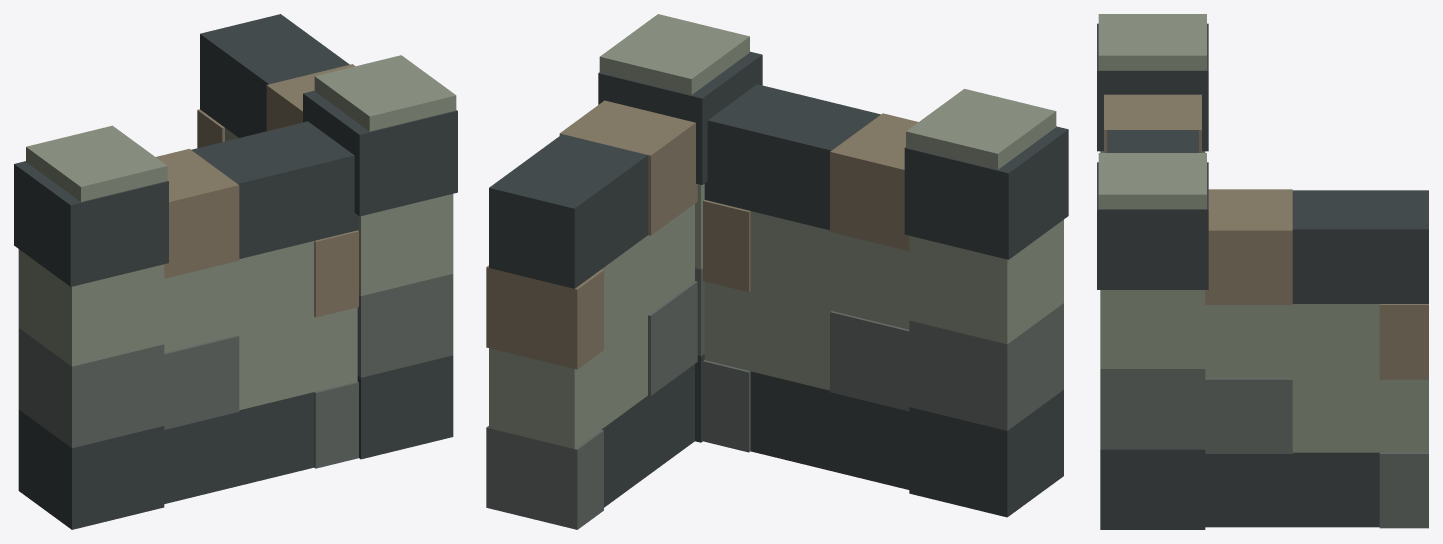
Rendered from TW_STONE_CORNER_L90_B_LOD0.glb.
The picture shows the model from 3 angles, left to right: view 1: azimuth 30°, elevation 25°; view 2: azimuth 150°, elevation 25°; view 3: azimuth 270°, elevation 25°; orthographic projection. The views are drawn at different scales.
Parts seen in each view (by area): view 1: TW_STONE_CORNER_L90_B_LOD0; view 2: TW_STONE_CORNER_L90_B_LOD0; view 3: TW_STONE_CORNER_L90_B_LOD0.
Part boxes in pixels (<box>): TW_STONE_CORNER_L90_B_LOD0: <box>14,14,457,529</box>; TW_STONE_CORNER_L90_B_LOD0: <box>486,14,1068,529</box>; TW_STONE_CORNER_L90_B_LOD0: <box>1097,14,1428,529</box>.
Bounding box in the file's own units: 1.34 × 1.13 × 1.01.
1 material, 1 textured.
